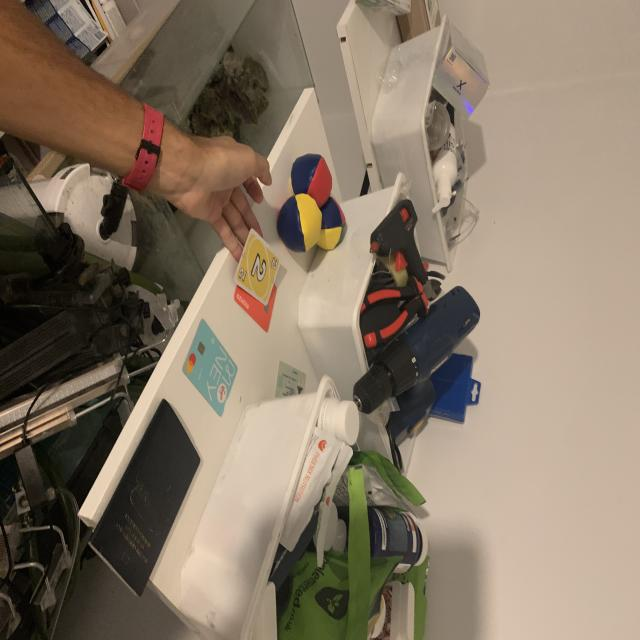lyellow-2: (270, 256, 279, 270)
